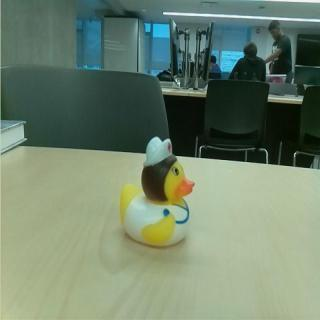duck_specialty: (119, 135, 197, 249)
